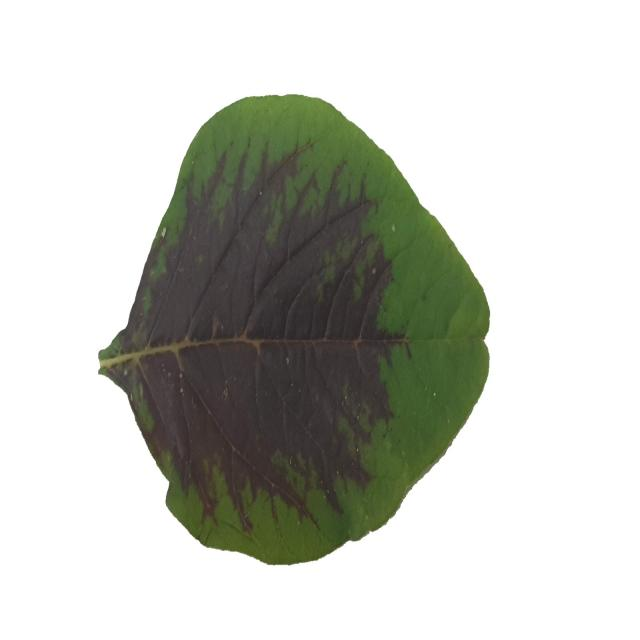Medicinal-Arive Dantu: (101, 91, 489, 559)
